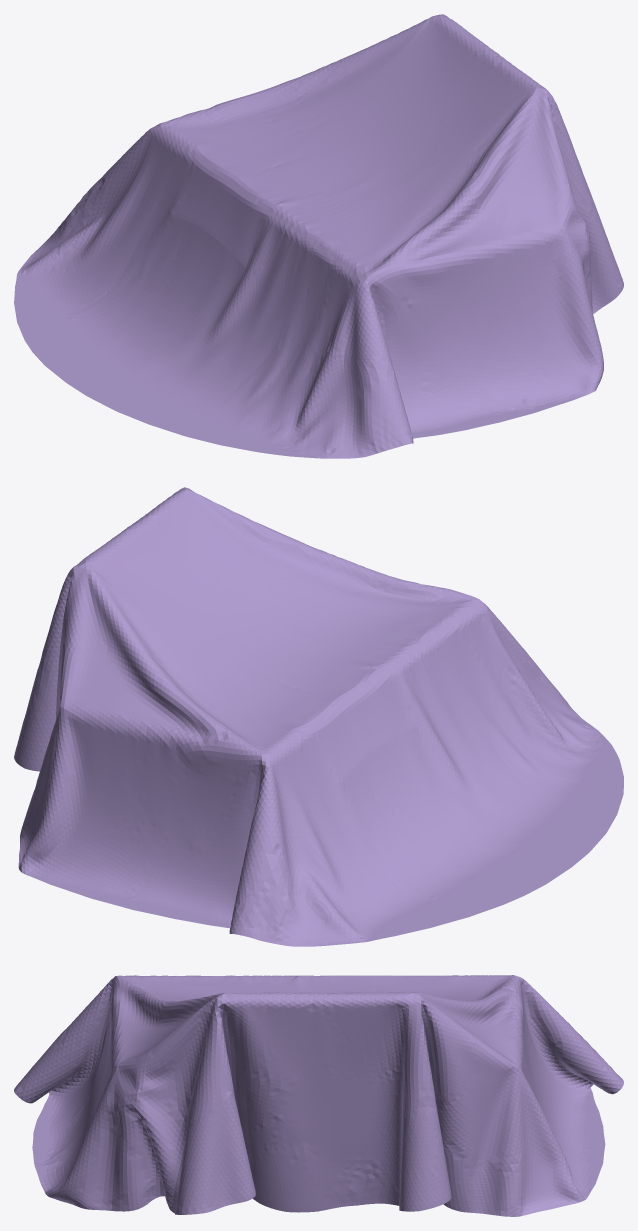
Rendered from level_3.glb.
3 views of the same model, one above another, from view 1: azimuth 30°, elevation 25°; view 2: azimuth 150°, elevation 25°; view 3: azimuth 270°, elevation 25° (orthographic). The views are drawn at different scales.
Visible parts, largest first — view 1: world; view 2: world; view 3: world.
Part boxes in pixels (left/top/right/bottom): world: left=14, top=14, right=623, bottom=458; world: left=14, top=487, right=623, bottom=946; world: left=14, top=975, right=623, bottom=1216.
Bounding box in the file's own units: 0.4276 × 0.1901 × 0.4784.
